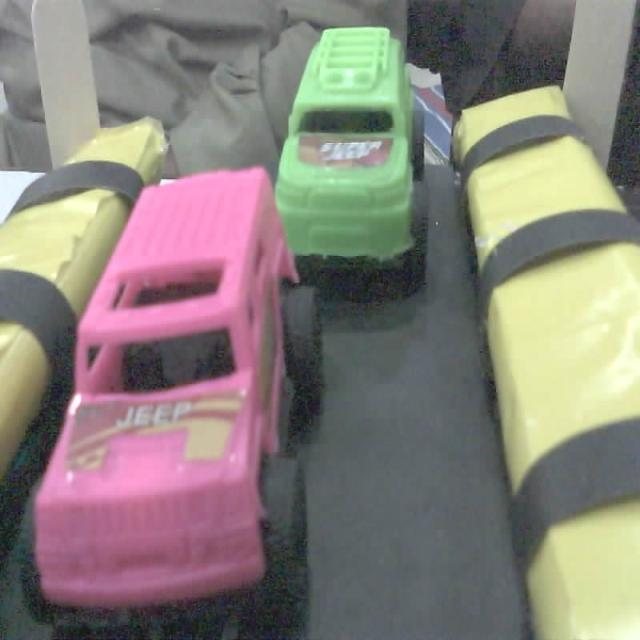TwoCar: (9, 165, 340, 626), (268, 16, 439, 295)
